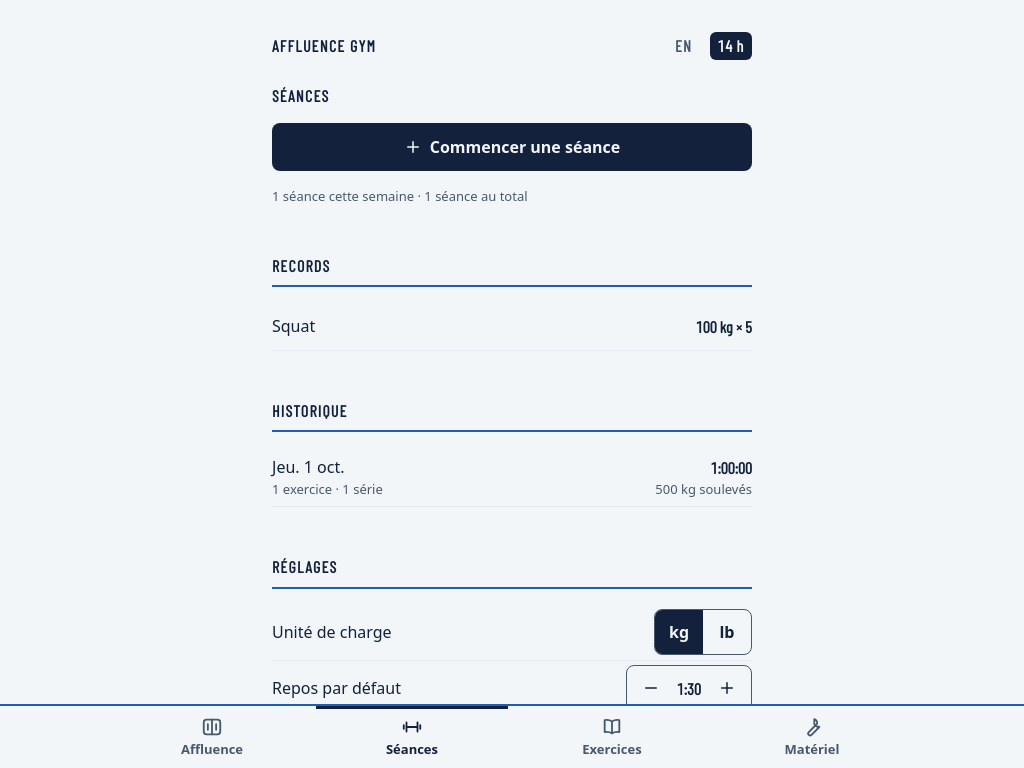
Scenario: séances › affiche les charges en livres quand on choisit lb
The image size is (1024, 768).
Click the radio button labelled "lb": (727, 632) [703,610,751,654]
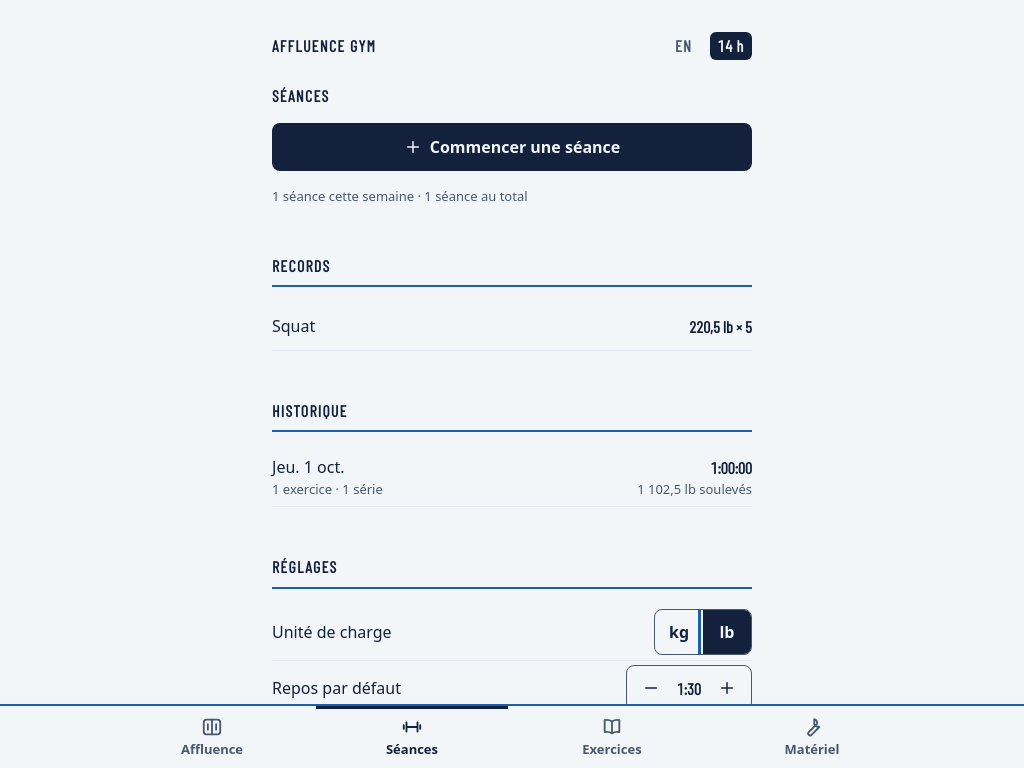
Result: the text "220,5 lb × 5" is shown at [689,315,752,338]
